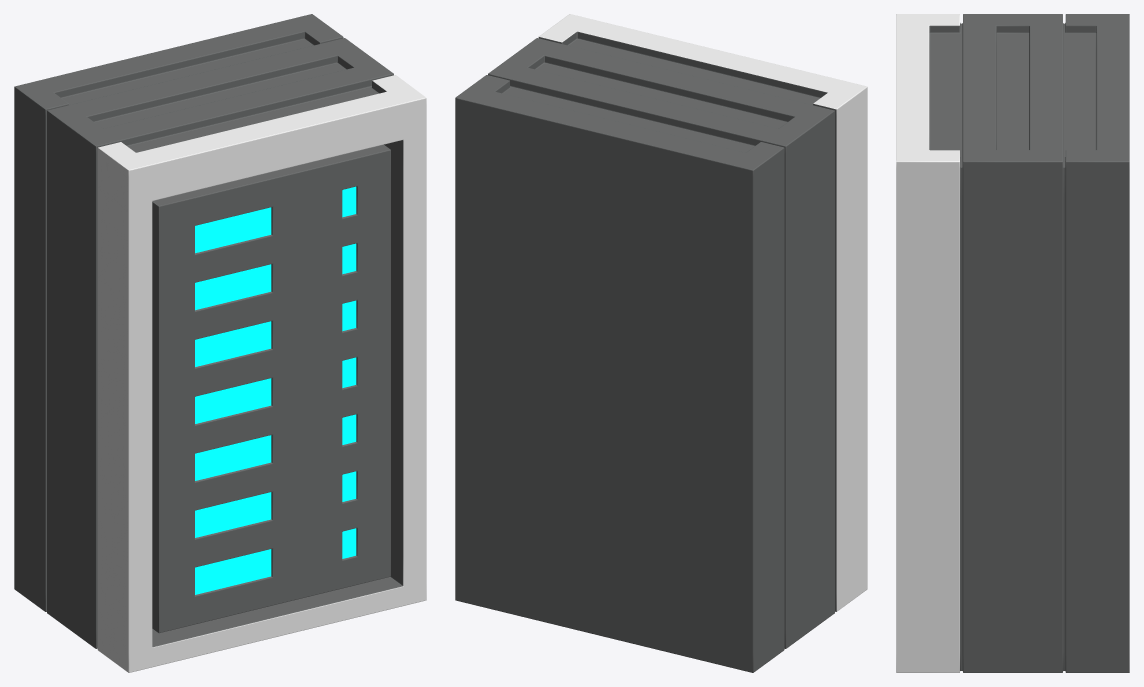
The model's file is ServerRackTower.fbx.
3 renders of one model, left to right at view 1: azimuth 30°, elevation 25°; view 2: azimuth 150°, elevation 25°; view 3: azimuth 270°, elevation 25°, orthographic.
Visible parts, largest first — view 1: ServerRackTower; view 2: ServerRackTower; view 3: ServerRackTower.
Part boxes in pixels (x1,y1,x2,y2): ServerRackTower: [14, 14, 426, 672]; ServerRackTower: [455, 14, 867, 672]; ServerRackTower: [896, 14, 1129, 672].
Bounding box in the file's own units: 90 × 145 × 60.
Materials: 1 (1 with a texture image).
